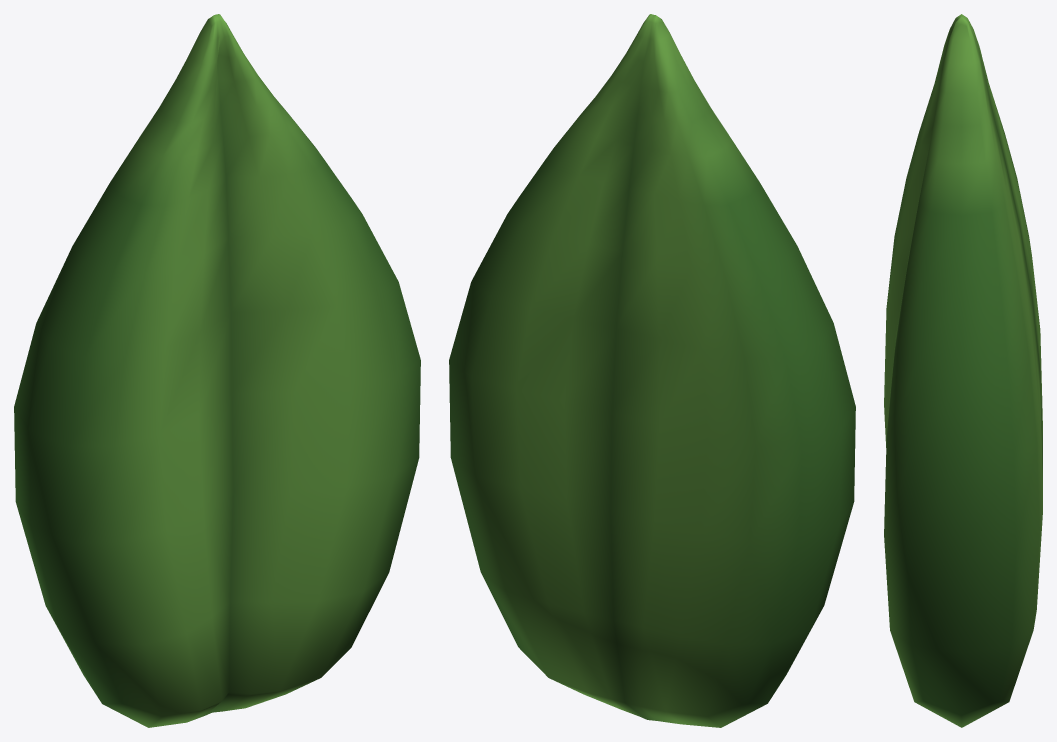
The model's file is leaf.glb.
The picture shows the model from 3 angles, left to right: view 1: azimuth 30°, elevation 25°; view 2: azimuth 150°, elevation 25°; view 3: azimuth 270°, elevation 25°; orthographic projection. The views are drawn at different scales.
Visible parts, largest first — view 1: leaf_export; view 2: leaf_export; view 3: leaf_export.
Part boxes in pixels (x1=…): leaf_export: x1=14, y1=14, x2=420, y2=727; leaf_export: x1=449, y1=14, x2=855, y2=727; leaf_export: x1=884, y1=14, x2=1042, y2=727.
Size of the model in its own units: 2.08 by 3.71 by 0.7802.
